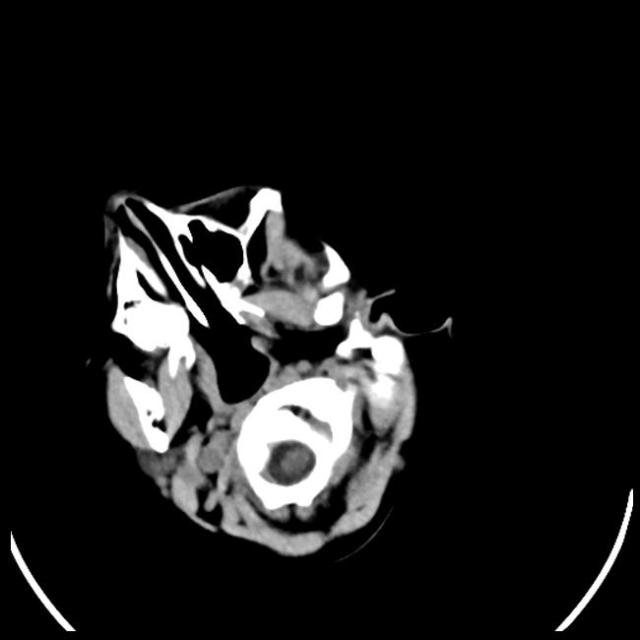lesion: (89, 176, 456, 562)
